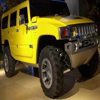Car: (2, 2, 100, 95)
